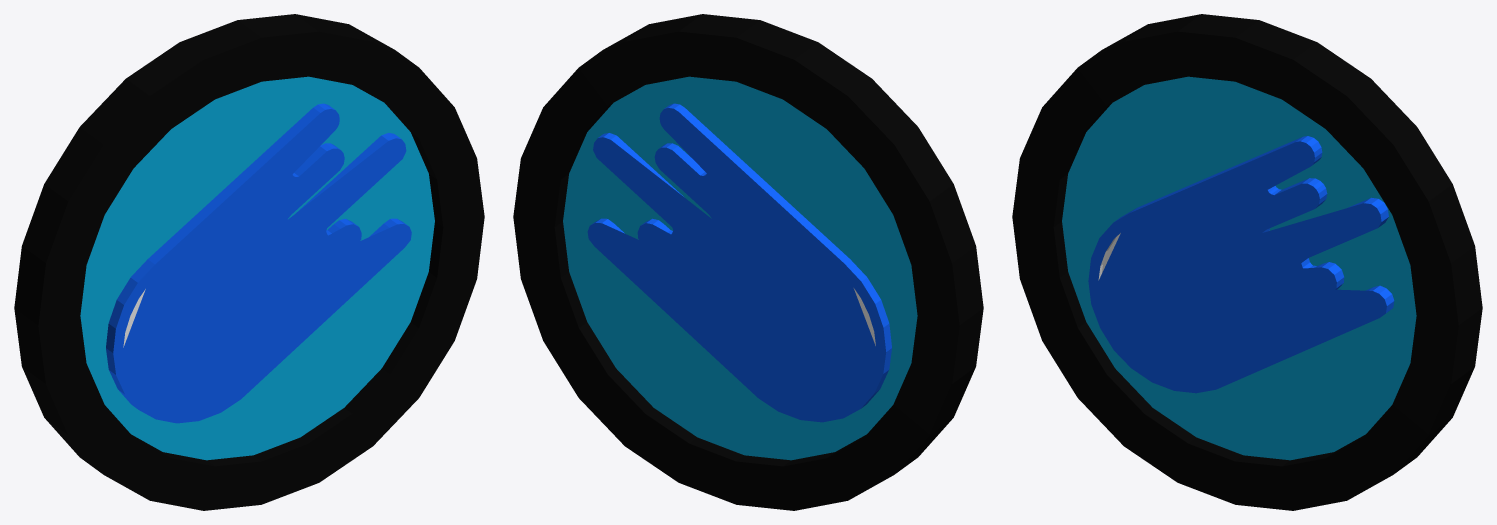
Rendered from Roll Out! Coin.fbx.
The picture shows the model from 3 angles, left to right: view 1: azimuth 30°, elevation 25°; view 2: azimuth 150°, elevation 25°; view 3: azimuth 330°, elevation 25°; orthographic projection.
Parts seen in each view (by area): view 1: Coin; view 2: Coin; view 3: Coin.
Part boxes in pixels (x1=…): Coin: x1=14, y1=14, x2=484, y2=510; Coin: x1=513, y1=14, x2=983, y2=510; Coin: x1=1012, y1=14, x2=1482, y2=510.
Bounding box in the file's own units: 506 × 506 × 48.52.
